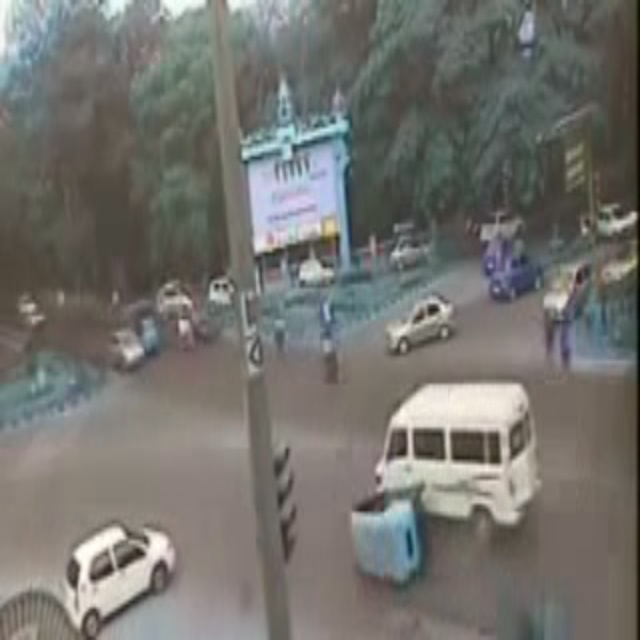acc: (314, 402, 450, 589)
